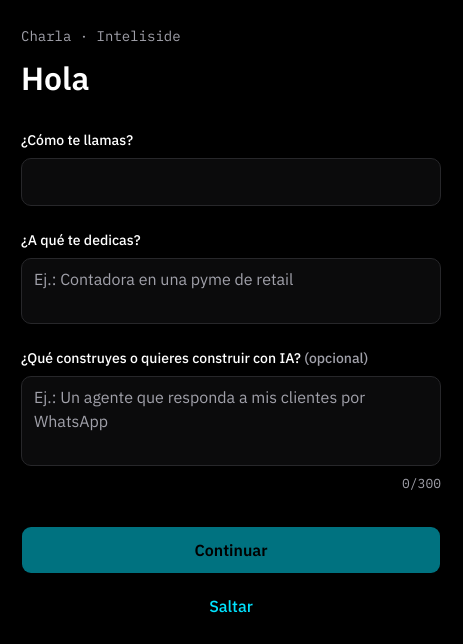
Test: PantallaPerfil (nuevo) › «Continuar» sin nombre marca el error y no envía
The width and height of the screenshot is (463, 644).
Type "Contadora" into the text box labelled "¿A qué te dedicas?".
click(231, 291); type("Contadora")  # box [21,258,441,324]
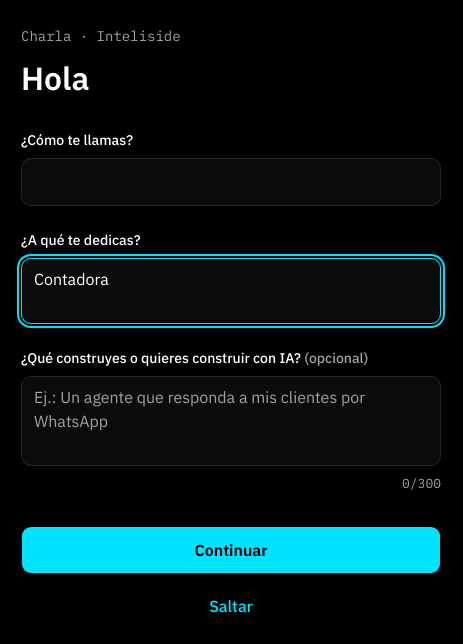
Click the button "Continuar".
click(231, 550)  # box [21,526,441,574]
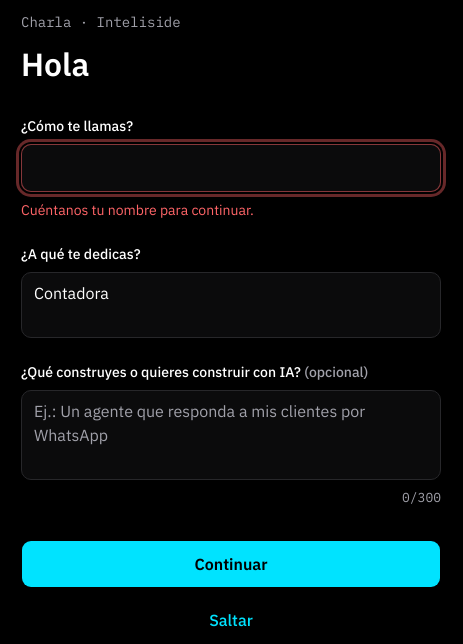
Result: the text "Cuéntanos tu nombre para continuar." is shown at [21,201,254,219]
